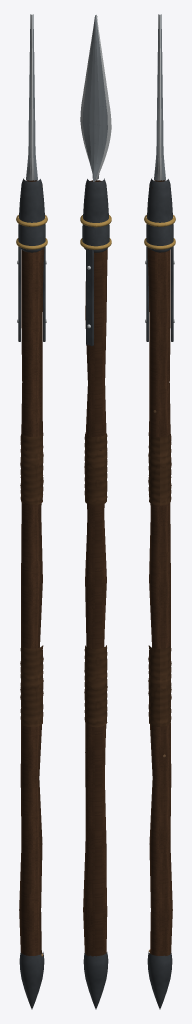
File: spear.lod1.glb
The picture shows the model from 3 angles, left to right: view 1: azimuth 90°, elevation 25°; view 2: azimuth 150°, elevation 25°; view 3: azimuth 270°, elevation 25°; orthographic projection.
Parts seen in each view (by area): view 1: wood / oiled hardwood, leather / oiled leather wrap, darksteel / oil-blackened fittings, steel / forged blade steel, edge / honed bright bevel, brass / polished brass furniture; view 2: wood / oiled hardwood, leather / oiled leather wrap, darksteel / oil-blackened fittings, steel / forged blade steel, edge / honed bright bevel, brass / polished brass furniture; view 3: wood / oiled hardwood, leather / oiled leather wrap, darksteel / oil-blackened fittings, steel / forged blade steel, edge / honed bright bevel, brass / polished brass furniture.
Boxes of the visible parts, x1,y1,x2,y2 form: wood / oiled hardwood: [19, 180, 44, 955]; leather / oiled leather wrap: [20, 433, 43, 727]; darksteel / oil-blackened fittings: [18, 178, 45, 1009]; steel / forged blade steel: [26, 14, 37, 180]; edge / honed bright bevel: [17, 14, 46, 322]; brass / polished brass furniture: [16, 215, 47, 249]; wood / oiled hardwood: [83, 180, 107, 956]; leather / oiled leather wrap: [84, 433, 107, 727]; darksteel / oil-blackened fittings: [82, 178, 109, 1009]; steel / forged blade steel: [82, 15, 107, 181]; edge / honed bright bevel: [80, 14, 111, 328]; brass / polished brass furniture: [80, 215, 111, 249]; wood / oiled hardwood: [147, 180, 172, 955]; leather / oiled leather wrap: [148, 432, 171, 726]; darksteel / oil-blackened fittings: [146, 178, 173, 1009]; steel / forged blade steel: [154, 14, 165, 180]; edge / honed bright bevel: [145, 14, 174, 322]; brass / polished brass furniture: [144, 215, 175, 249].
Bounding box in the file's own units: 0.0666 × 2.04 × 0.0592.
Materials: 8 (6 with a texture image).
